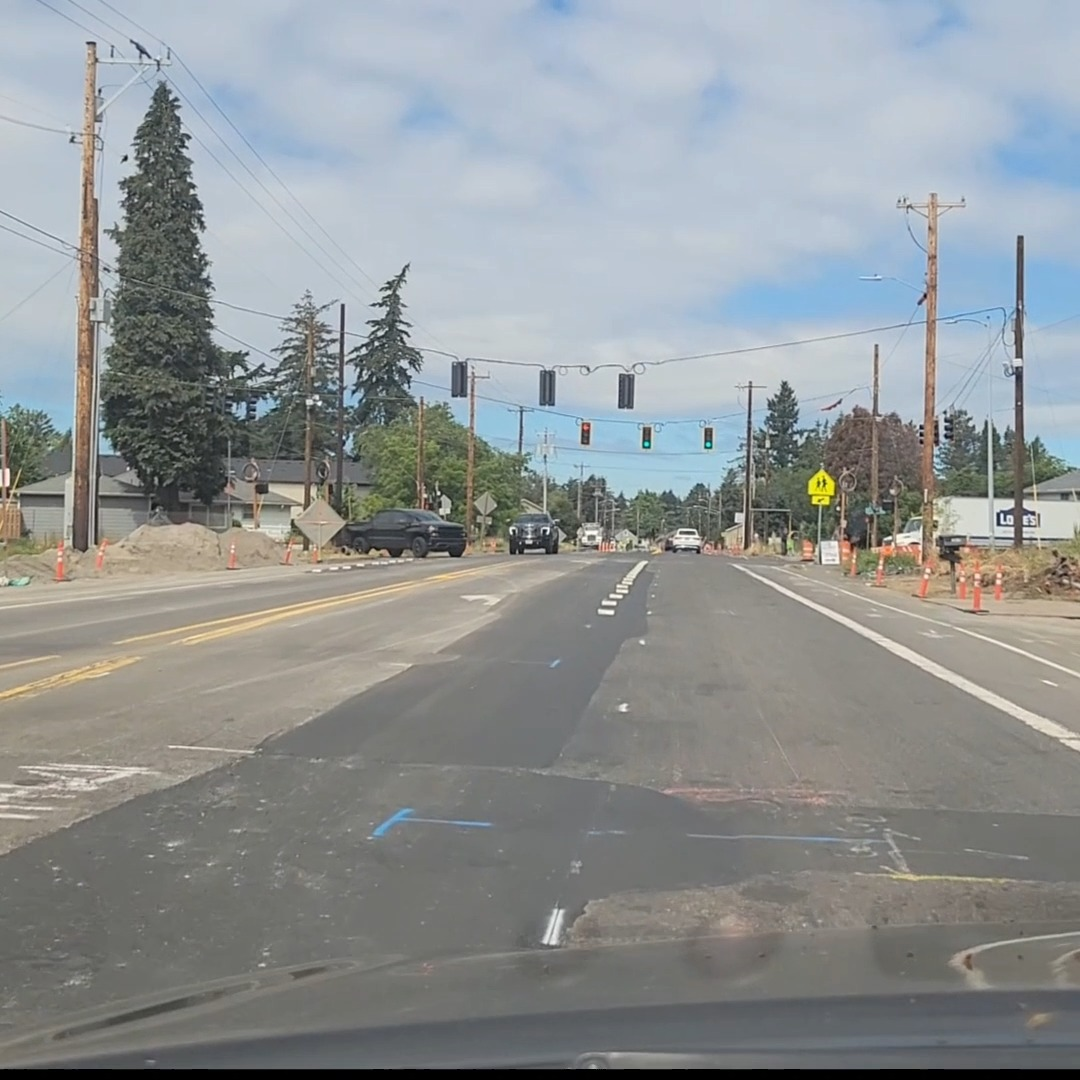car: (337, 508, 465, 558), (506, 511, 561, 553), (665, 528, 703, 553), (577, 522, 603, 549)
crosswalk-sign: (807, 469, 835, 506)
delineator: (963, 560, 987, 612), (872, 548, 887, 586), (917, 562, 931, 598), (54, 541, 66, 581), (95, 538, 109, 569), (957, 564, 968, 599), (281, 538, 293, 565), (993, 568, 1003, 599), (227, 542, 238, 569), (849, 547, 858, 577), (309, 542, 319, 564)
